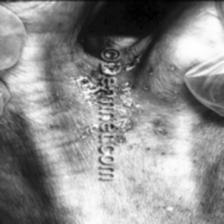Toxin: (116, 49, 146, 145), (75, 62, 98, 114)
